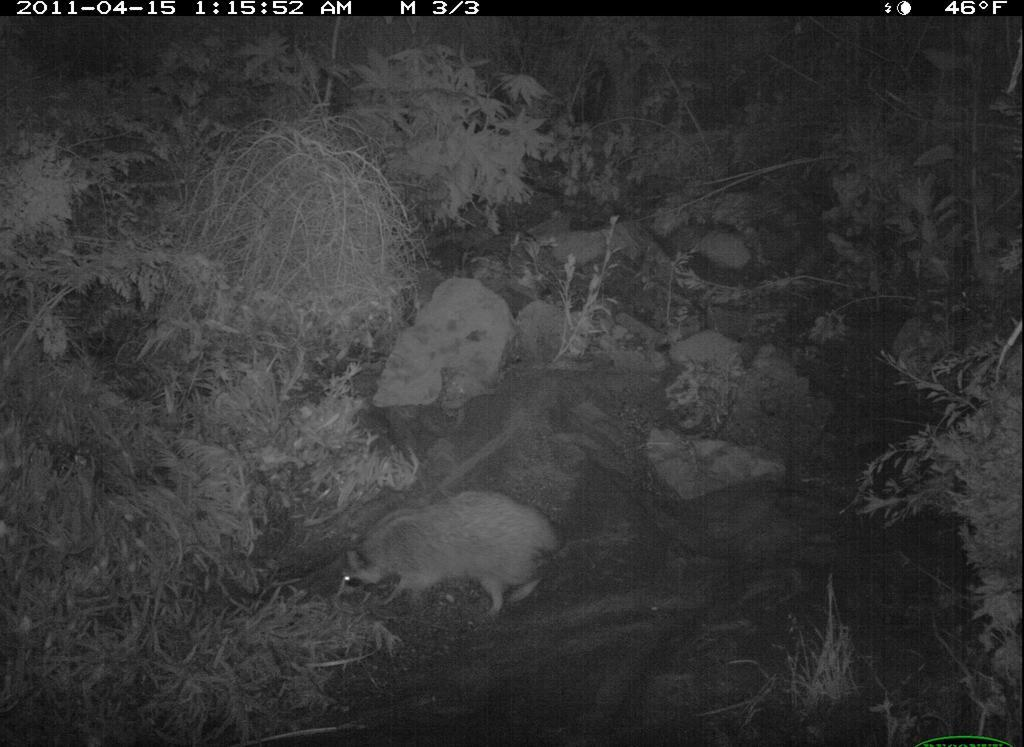raccoon: (333, 487, 553, 628)
